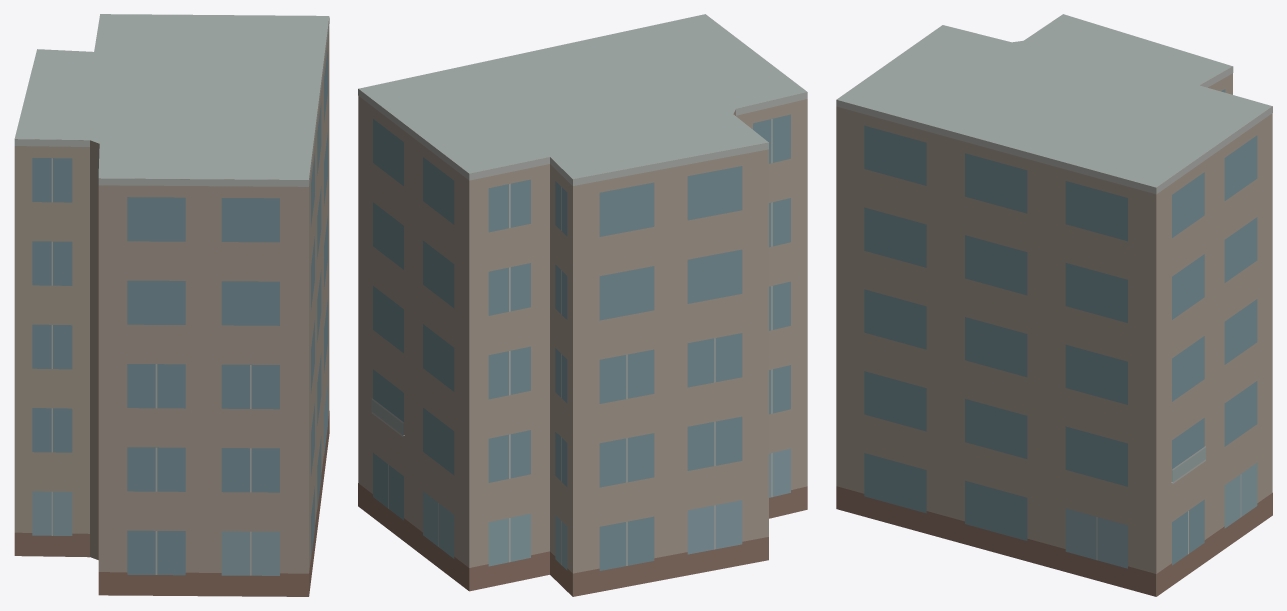
File: survey-upis-32693109.glb
3 views of the same model, side by side, from view 1: azimuth 30°, elevation 25°; view 2: azimuth 150°, elevation 25°; view 3: azimuth 270°, elevation 25° (orthographic). The views are drawn at different scales.
Visible parts, largest first — view 1: survey-upis-32693109.tmp; view 2: survey-upis-32693109.tmp; view 3: survey-upis-32693109.tmp.
Boxes of the visible parts, x1,y1,x2,y2 form: survey-upis-32693109.tmp: (14, 14, 329, 596); survey-upis-32693109.tmp: (358, 14, 807, 596); survey-upis-32693109.tmp: (836, 14, 1272, 596).
Size of the model in its own units: 13.43 by 14.75 by 14.26.
